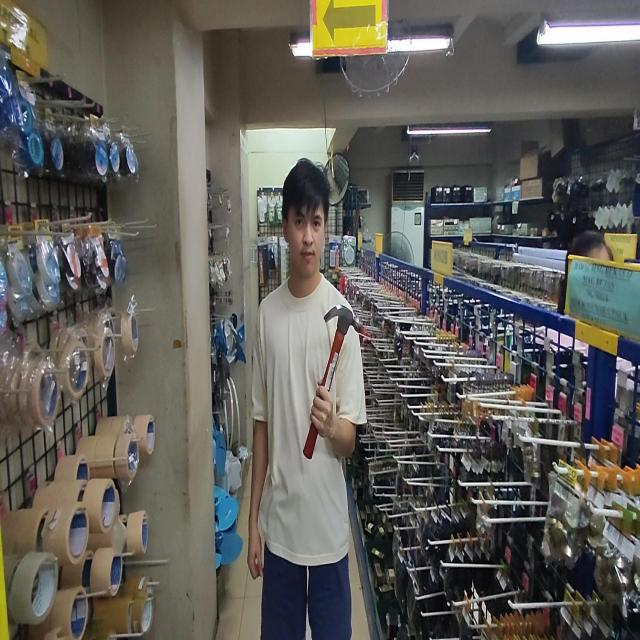hammer: (304, 306, 362, 459)
